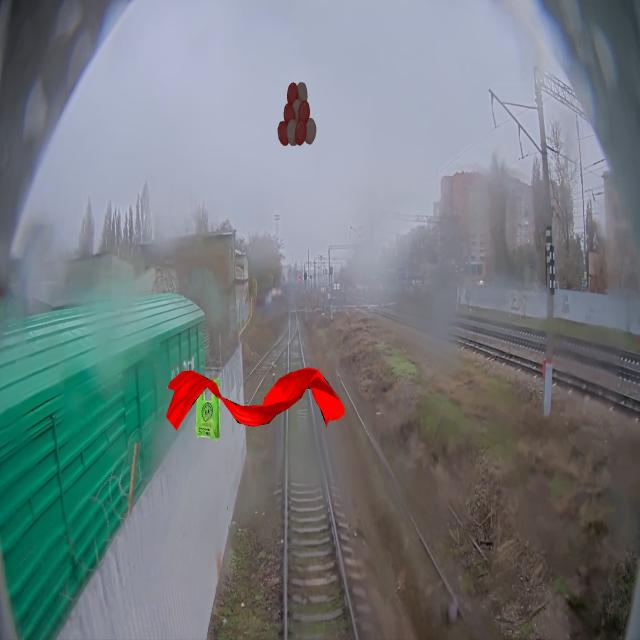balloon: (278, 82, 316, 146)
floating object: (166, 367, 345, 431)
plastic bag: (195, 377, 220, 441)
